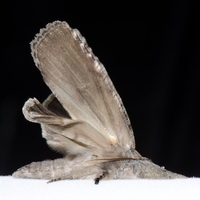insect: (13, 21, 183, 182), (13, 21, 142, 178)
